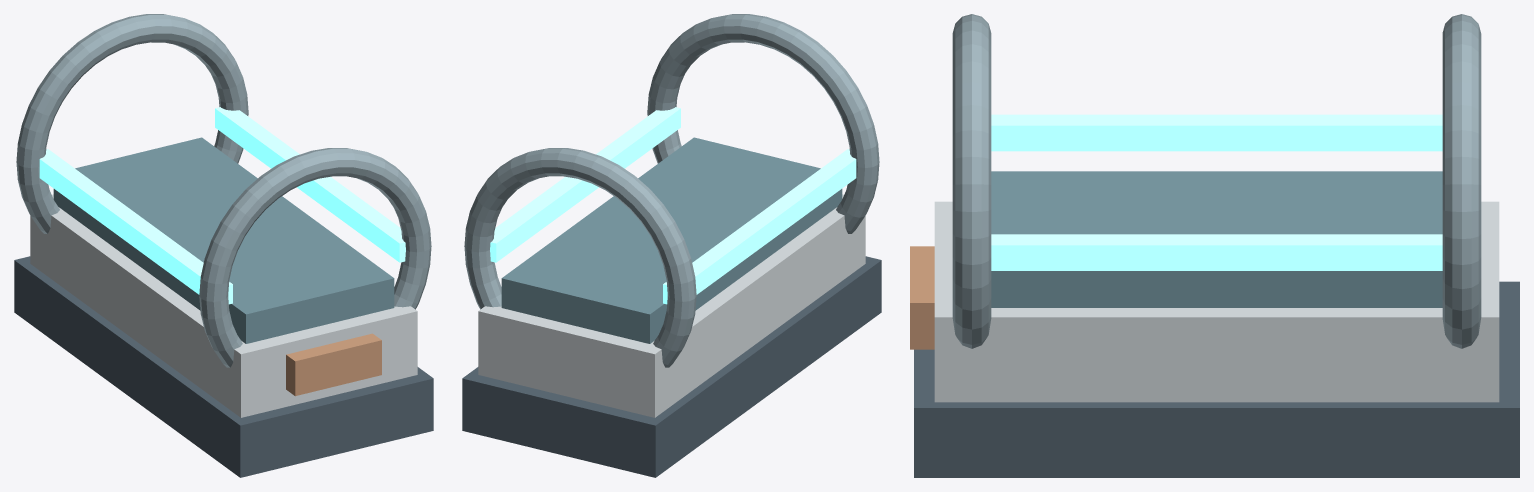
Rendered from recovery_pod.glb.
The picture shows the model from 3 angles, left to right: view 1: azimuth 30°, elevation 25°; view 2: azimuth 150°, elevation 25°; view 3: azimuth 270°, elevation 25°; orthographic projection. The views are drawn at different scales.
Parts seen in each view (by area): view 1: pad_2, dark_0, ivory_1, steel_4, steel_3, blue_5, blue_6, copper_7; view 2: pad_2, ivory_1, dark_0, steel_3, steel_4, blue_5, blue_6; view 3: ivory_1, dark_0, pad_2, blue_5, blue_6, steel_3, steel_4, copper_7.
Part boxes in pixels (bbox=[...]): pad_2: bbox=[53, 137, 394, 343]; dark_0: bbox=[14, 256, 433, 477]; ivory_1: bbox=[30, 194, 417, 417]; steel_4: bbox=[199, 148, 431, 367]; steel_3: bbox=[16, 14, 248, 233]; blue_5: bbox=[39, 149, 232, 304]; blue_6: bbox=[215, 107, 405, 262]; copper_7: bbox=[286, 333, 381, 396]; pad_2: bbox=[501, 137, 842, 343]; ivory_1: bbox=[478, 194, 865, 417]; dark_0: bbox=[462, 256, 881, 477]; steel_3: bbox=[464, 148, 696, 367]; steel_4: bbox=[647, 14, 879, 233]; blue_5: bbox=[663, 149, 856, 304]; blue_6: bbox=[490, 107, 680, 262]; ivory_1: bbox=[934, 201, 1499, 402]; dark_0: bbox=[914, 281, 1519, 477]; pad_2: bbox=[991, 171, 1442, 307]; blue_5: bbox=[991, 114, 1442, 151]; blue_6: bbox=[991, 234, 1442, 270]; steel_3: bbox=[1442, 14, 1481, 348]; steel_4: bbox=[952, 14, 991, 348]; copper_7: bbox=[910, 246, 934, 349].
Bounding box in the file's own units: 1.37 × 1.64 × 2.37.
